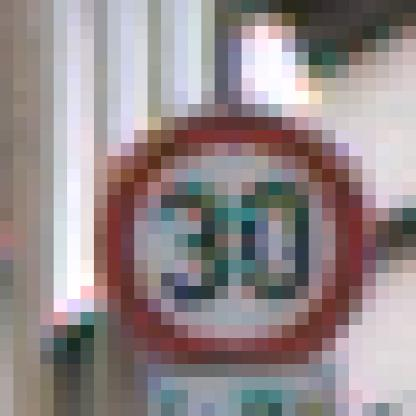Speed Limit 30: (109, 118, 357, 366)
